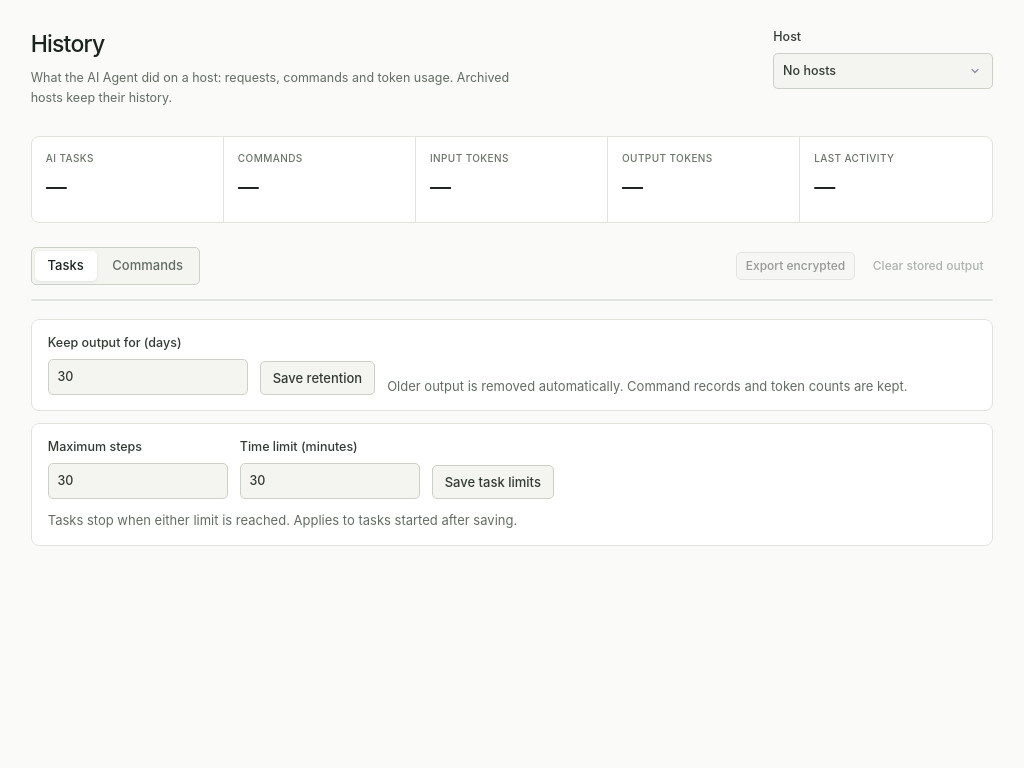
Test case: HostHistoryTab › lets the operator configure the task step and time limits
Replace the text in the number field labelled "Maximum steps" with "12" at (138, 481), box top-left (48, 463), bottom-right (228, 499)
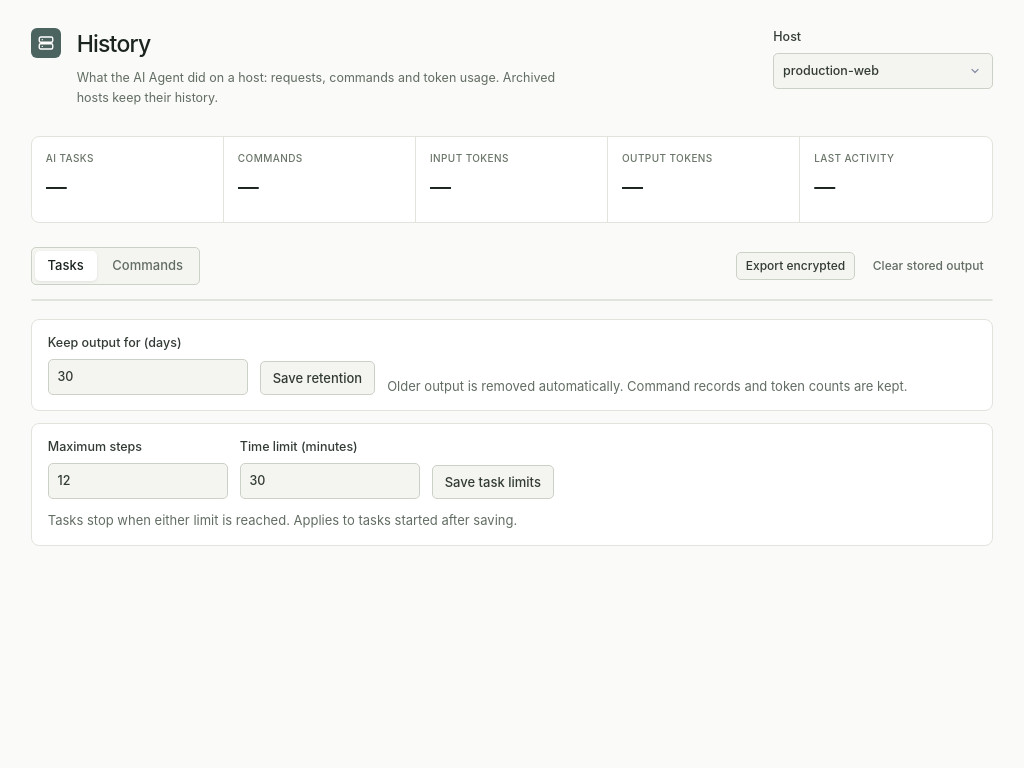
Replace the text in the number field labelled "Time limit (minutes)" with "15" at (330, 481), box top-left (240, 463), bottom-right (420, 499)
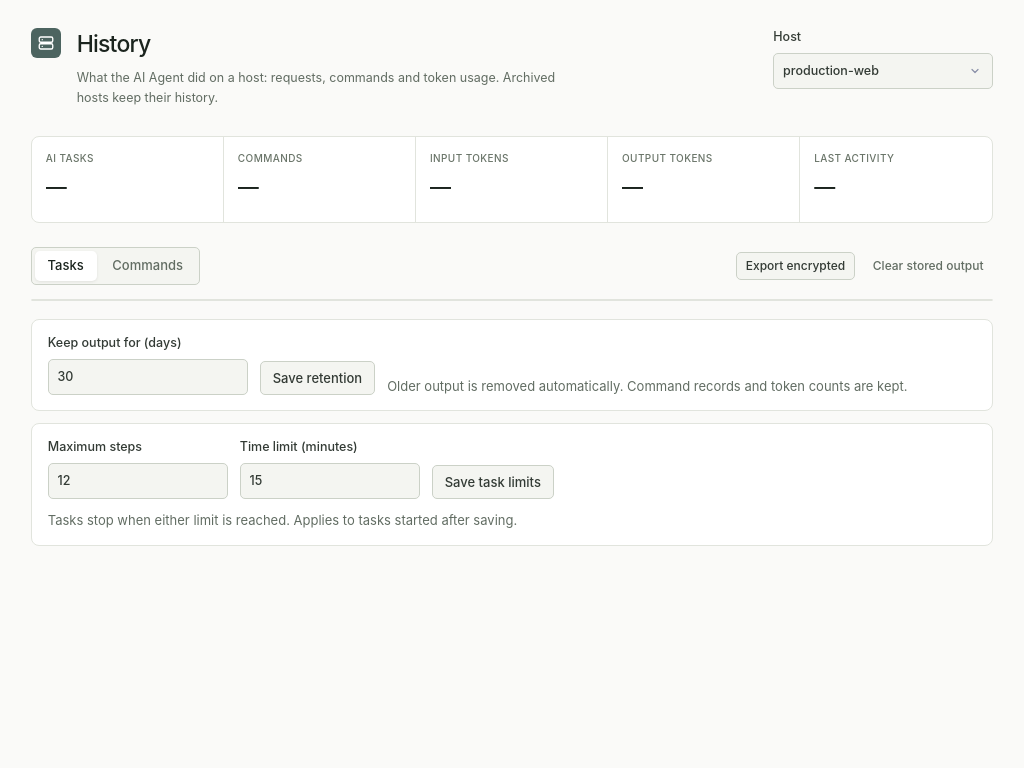
Click the button "Save task limits" at (493, 482), box top-left (432, 465), bottom-right (554, 499)
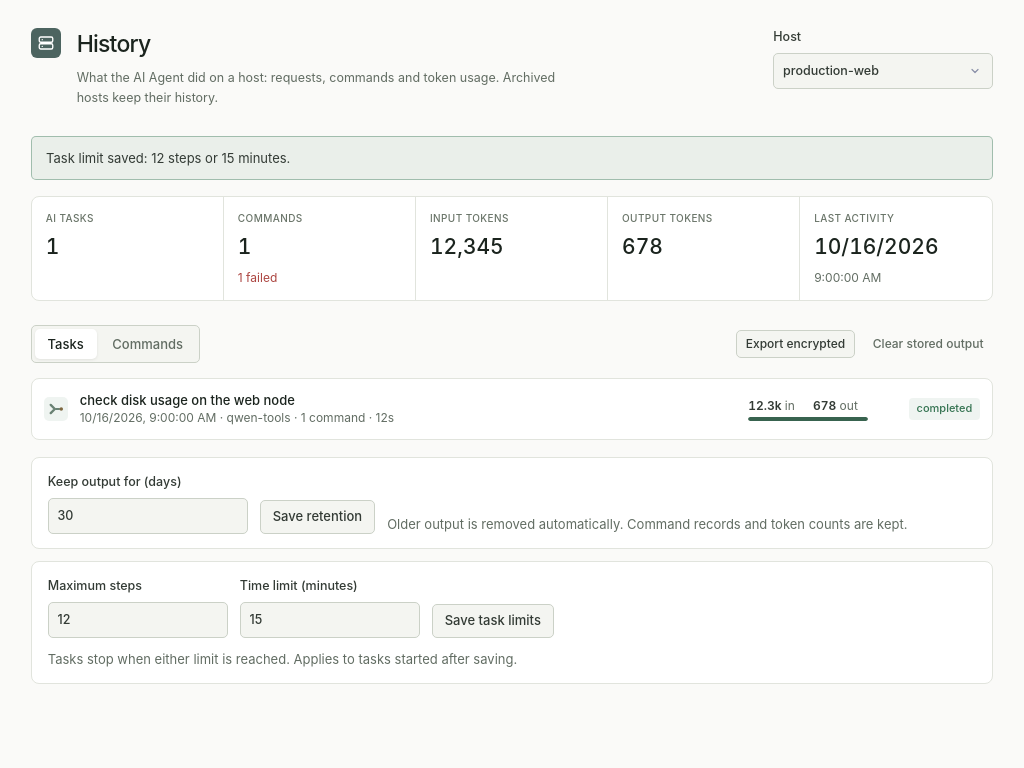
Expected: the message shows "12 steps or 15 minutes", top-left (46, 150), bottom-right (290, 166)
